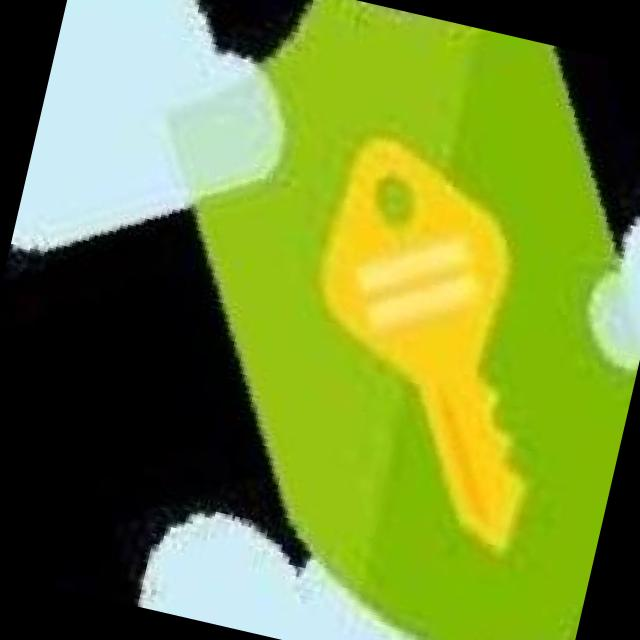anahtar: (246, 119, 602, 592)
